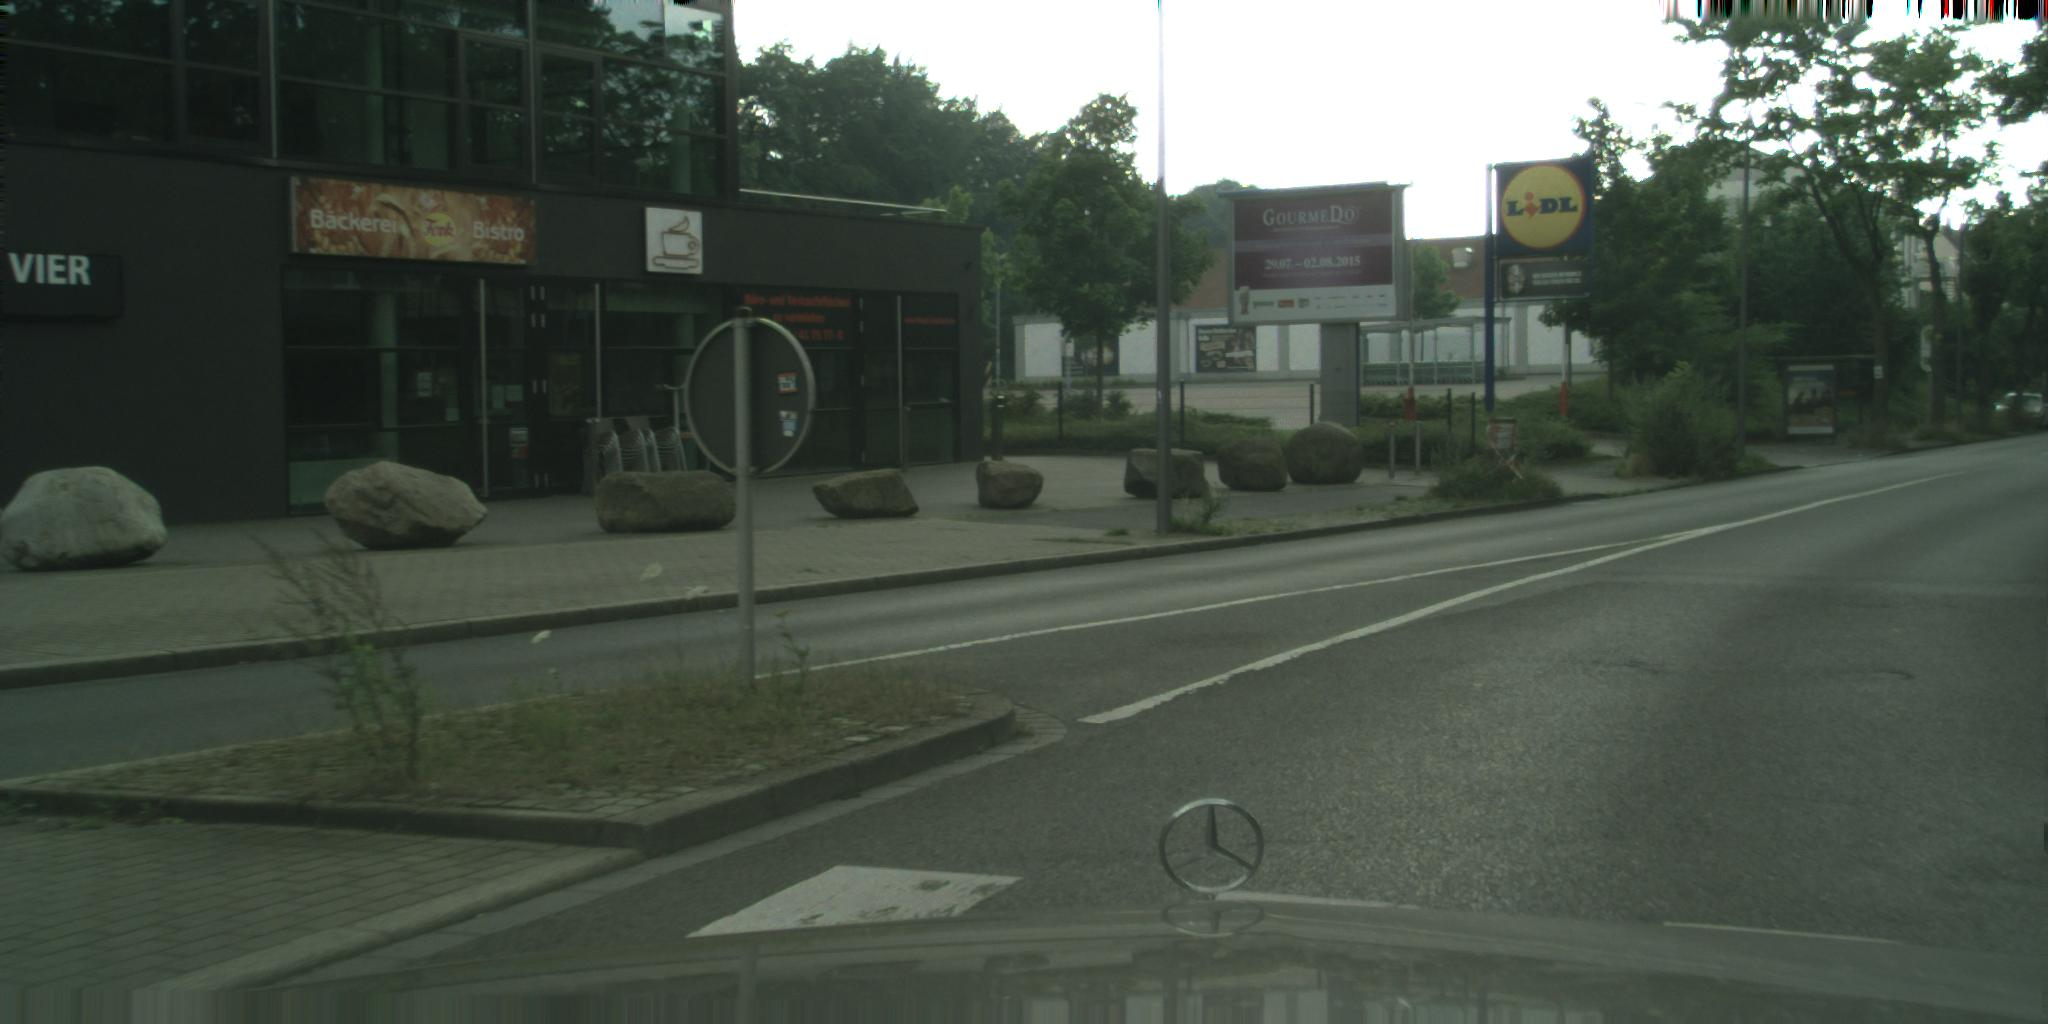car: (1994, 391, 2045, 426)
